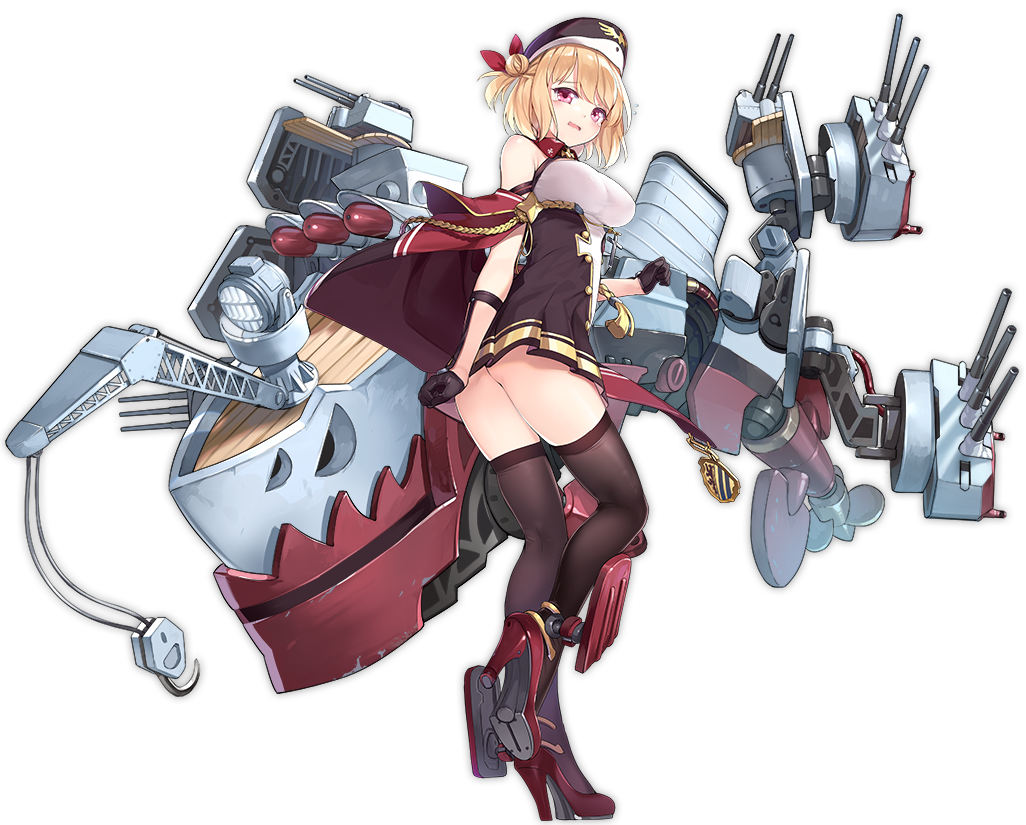person: (270, 37, 734, 635)
